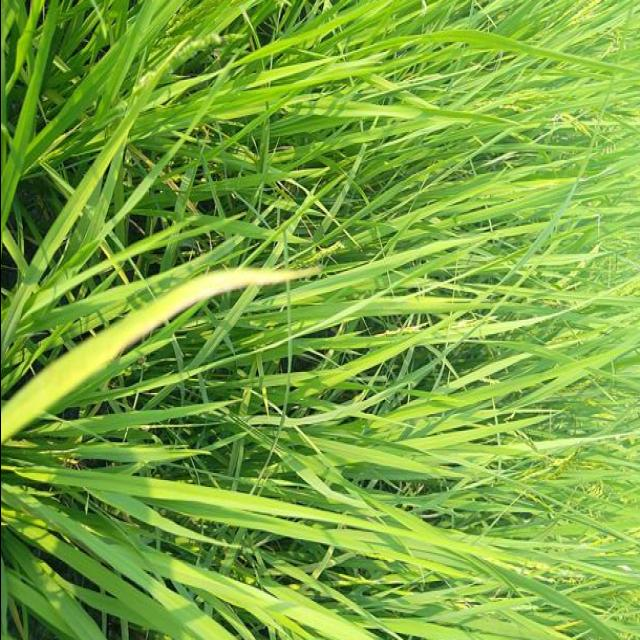Leaf Blight: (25, 268, 317, 427)
